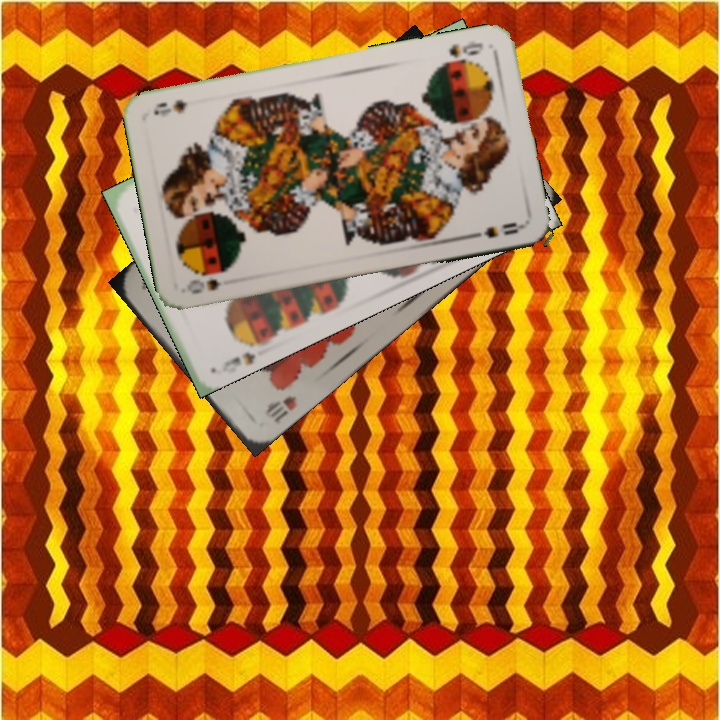H10: (261, 391, 299, 427)
S9: (217, 332, 268, 375)
SO: (438, 37, 486, 67), (182, 274, 222, 297)
